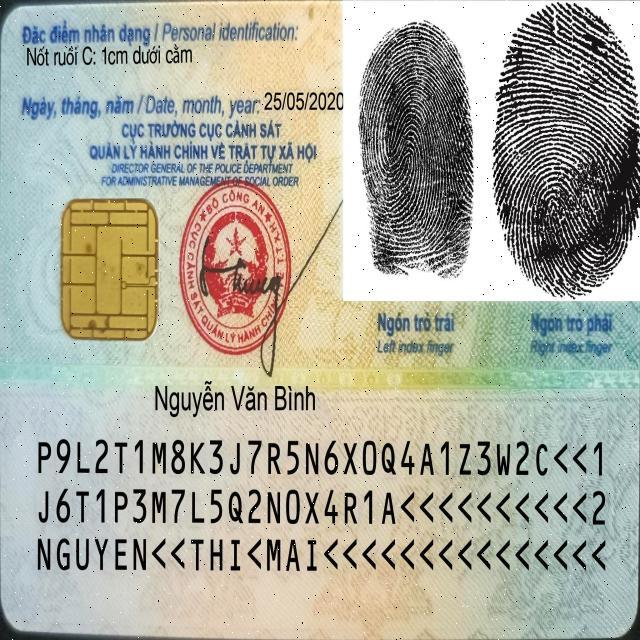features: (25, 40, 204, 72)
finger_print: (489, 2, 640, 364), (340, 1, 482, 362)
issue_date: (261, 84, 345, 114)
